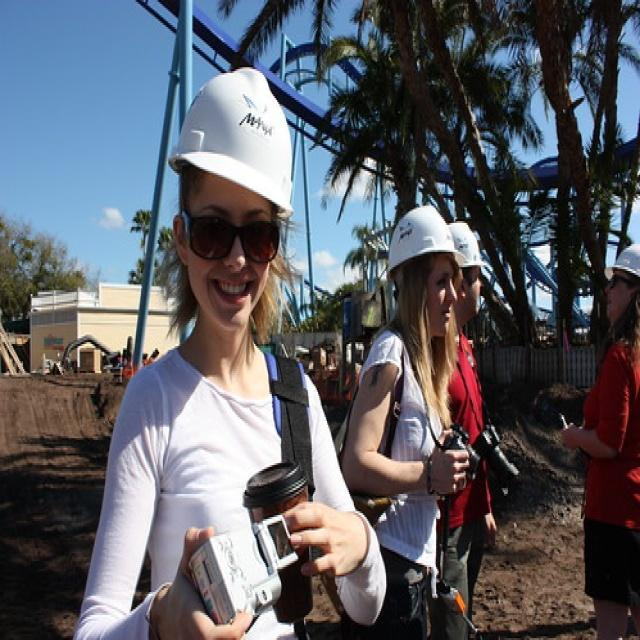helmet: (167, 81, 295, 279), (387, 264, 460, 361), (447, 289, 488, 359), (606, 313, 639, 364)
